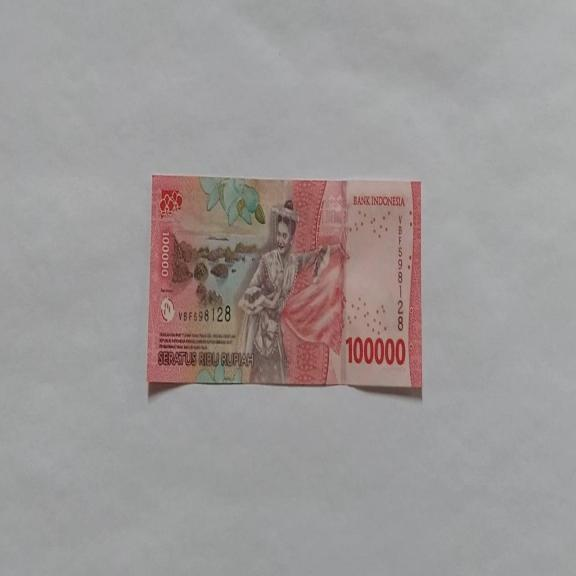Kertas: (146, 174, 422, 394), (345, 334, 406, 367)
